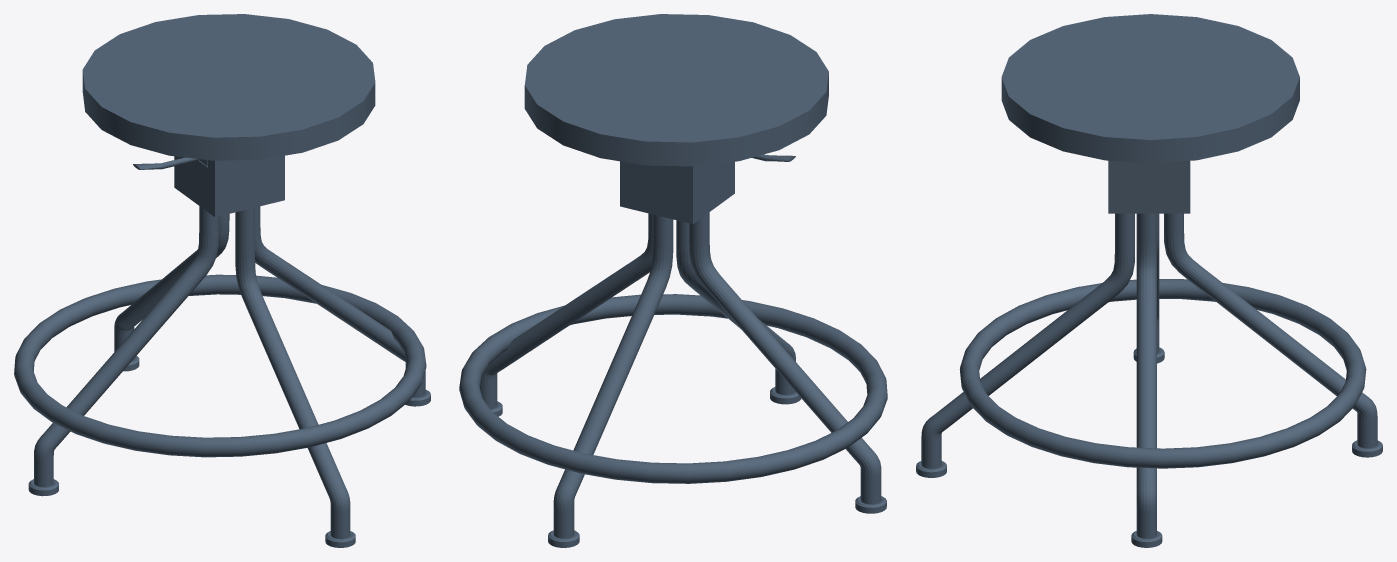
The model's file is Chair Low.fbx.
The picture shows the model from 3 angles, left to right: view 1: azimuth 30°, elevation 25°; view 2: azimuth 150°, elevation 25°; view 3: azimuth 270°, elevation 25°; orthographic projection. The views are drawn at different scales.
Parts seen in each view (by area): view 1: chair_01_low, chair_08_low, chair_02_low, chair_05_low1, chair_06_low1, chair_03_low, chair_04_low; view 2: chair_01_low, chair_08_low, chair_04_low, chair_05_low1, chair_06_low1, chair_03_low, chair_02_low; view 3: chair_01_low, chair_08_low, chair_02_low, chair_03_low, chair_04_low, chair_06_low1, chair_05_low1.
Boxes of the visible parts, box(x1,y1,x2,y2) form: chair_01_low: box(82, 14, 375, 160); chair_08_low: box(14, 274, 426, 457); chair_02_low: box(235, 207, 355, 547); chair_05_low1: box(28, 206, 218, 496); chair_06_low1: box(174, 155, 284, 217); chair_03_low: box(255, 206, 430, 406); chair_04_low: box(114, 214, 229, 371); chair_01_low: box(524, 14, 828, 166); chair_08_low: box(459, 294, 887, 483); chair_04_low: box(548, 214, 673, 547); chair_05_low1: box(689, 212, 886, 513); chair_06_low1: box(620, 161, 734, 223); chair_03_low: box(480, 213, 652, 416); chair_02_low: box(676, 220, 801, 404); chair_01_low: box(1001, 14, 1299, 163); chair_08_low: box(959, 279, 1366, 468); chair_02_low: box(916, 213, 1134, 477); chair_03_low: box(1131, 213, 1162, 547); chair_04_low: box(1164, 213, 1382, 457); chair_06_low1: box(1108, 160, 1190, 213); chair_05_low1: box(1133, 213, 1164, 363).
Size of the model in its own units: 91.98 by 85.72 by 92.33.
